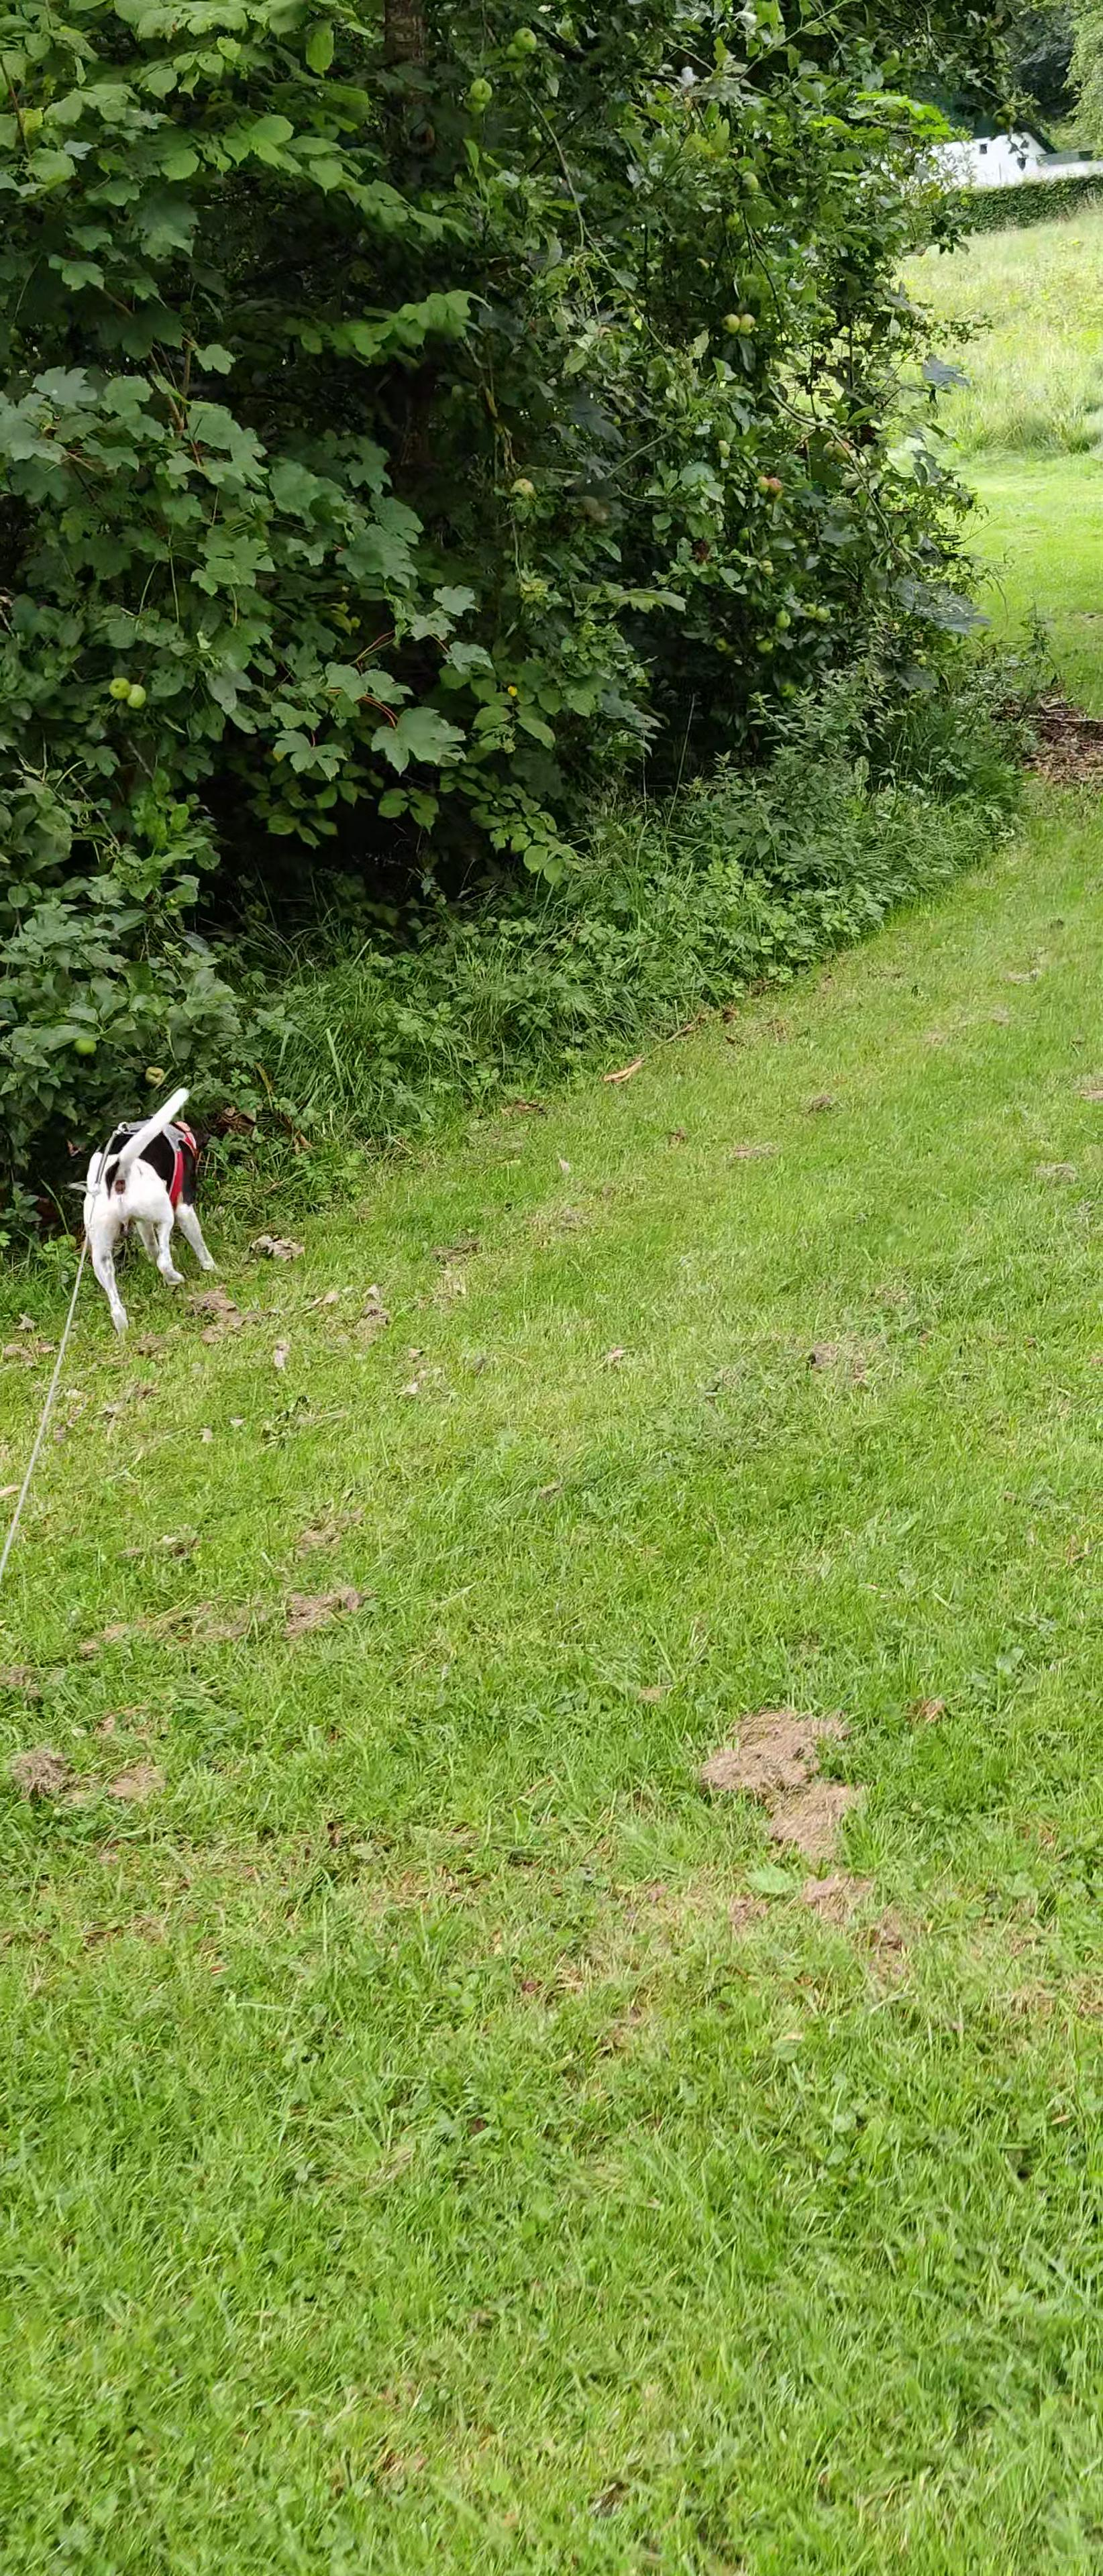Dog: (74, 1088, 217, 1342)
